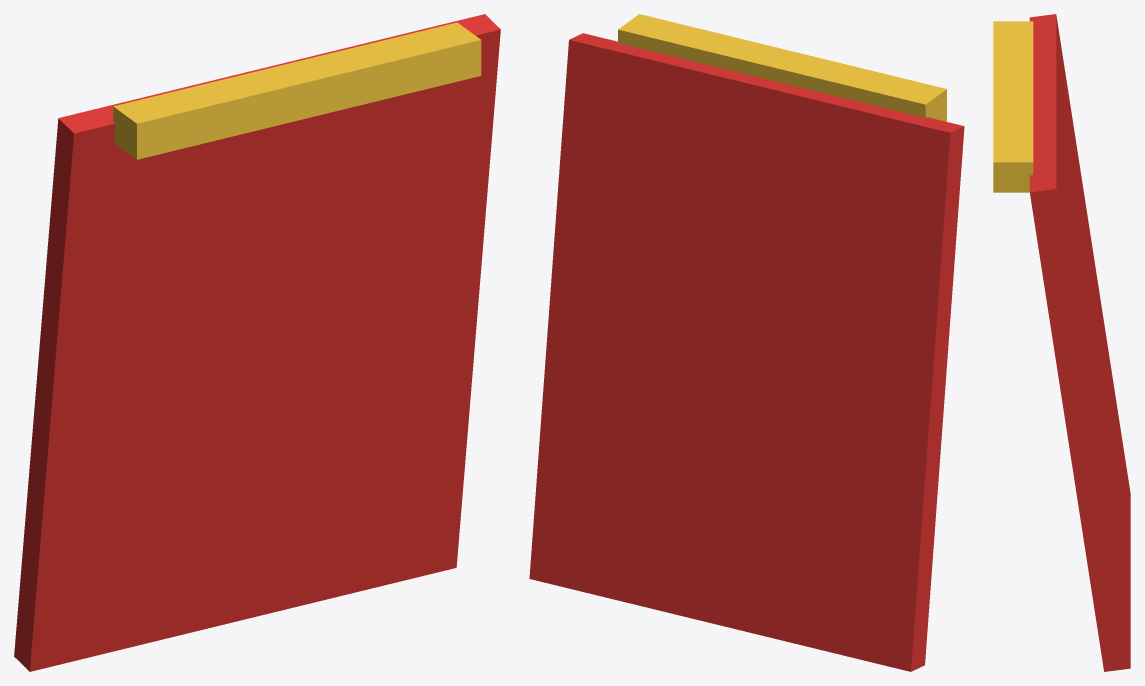
File: cape_red.glb
3 views of the same model, side by side, from view 1: azimuth 30°, elevation 25°; view 2: azimuth 150°, elevation 25°; view 3: azimuth 270°, elevation 25° (orthographic). The views are drawn at different scales.
Visible parts, largest first — view 1: cape_red; view 2: cape_red; view 3: cape_red.
Part boxes in pixels (left/top/right/bottom): cape_red: left=14, top=14, right=500, bottom=671; cape_red: left=529, top=14, right=964, bottom=671; cape_red: left=993, top=14, right=1130, bottom=671.
Bounding box in the file's own units: 0.62 × 0.8139 × 0.2055.
